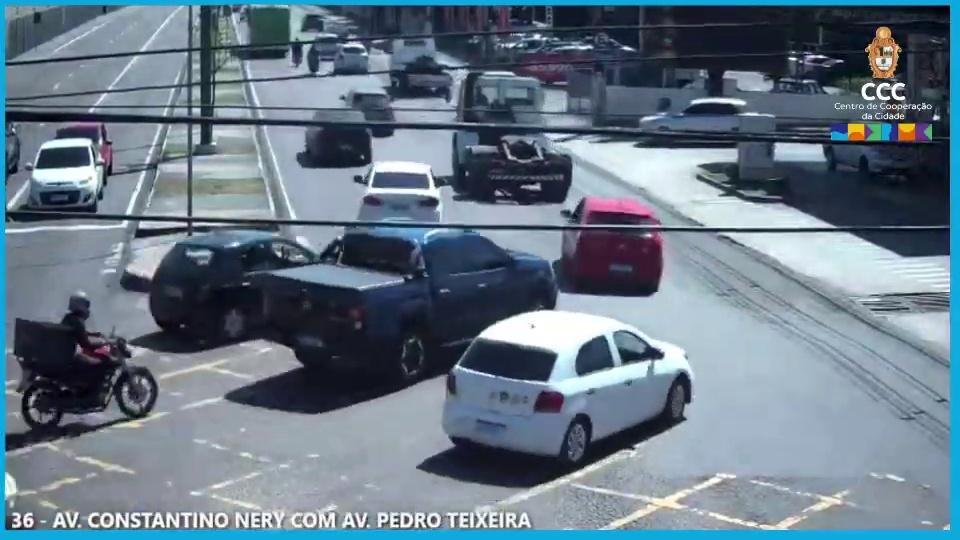biker: (5, 290, 164, 434)
car: (265, 222, 557, 372), (444, 303, 699, 470), (149, 228, 321, 350), (558, 188, 672, 301), (352, 154, 445, 225), (26, 134, 108, 214), (635, 91, 745, 146)
truck: (450, 69, 580, 199)
